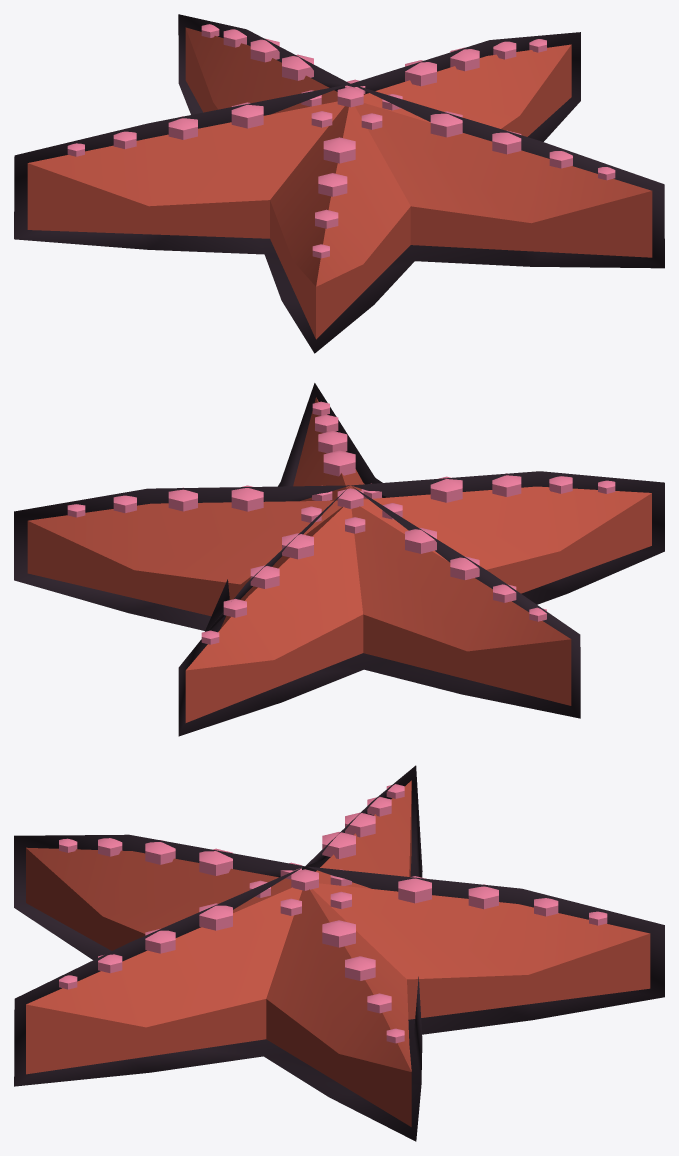
The model's file is SM_Island_Starfish.fbx.
The picture shows the model from 3 angles, top to bottom: view 1: azimuth 30°, elevation 25°; view 2: azimuth 150°, elevation 25°; view 3: azimuth 270°, elevation 25°; orthographic projection. The views are drawn at different scales.
Visible parts, largest first — view 1: SM_Island_Starfish, SM_Island_Starfish_Outline; view 2: SM_Island_Starfish, SM_Island_Starfish_Outline; view 3: SM_Island_Starfish, SM_Island_Starfish_Outline.
Boxes of the visible parts, x1,y1,x2,y2 form: SM_Island_Starfish: [27, 24, 652, 339]; SM_Island_Starfish_Outline: [14, 14, 664, 353]; SM_Island_Starfish: [27, 397, 651, 722]; SM_Island_Starfish_Outline: [14, 383, 664, 736]; SM_Island_Starfish: [26, 780, 650, 1126]; SM_Island_Starfish_Outline: [14, 765, 664, 1141].
Size of the model in its own units: 0.3371 by 0.074 by 0.3207.
2 materials, 1 textured.
